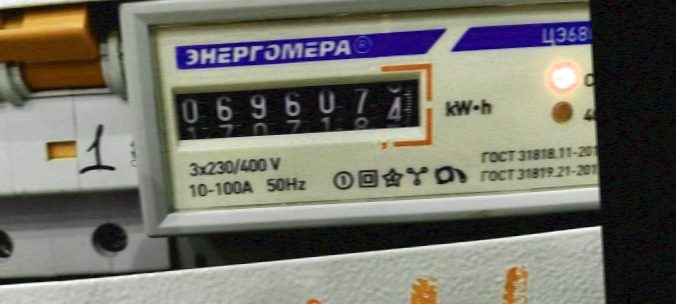0: (179, 96, 200, 126), (315, 88, 335, 116)
4: (384, 96, 403, 125)
6: (282, 90, 302, 119), (213, 95, 233, 123)
7: (350, 86, 371, 117)
9: (247, 94, 267, 123)
screen: (157, 60, 440, 162)
